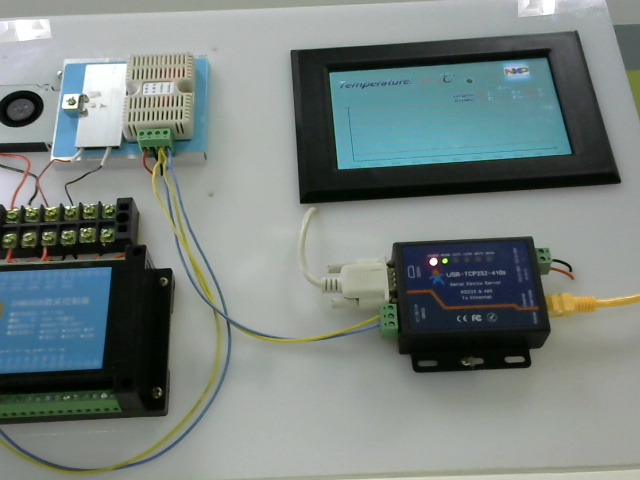modbus bridge: (379, 235, 564, 377)
termperature: (120, 48, 202, 146)
